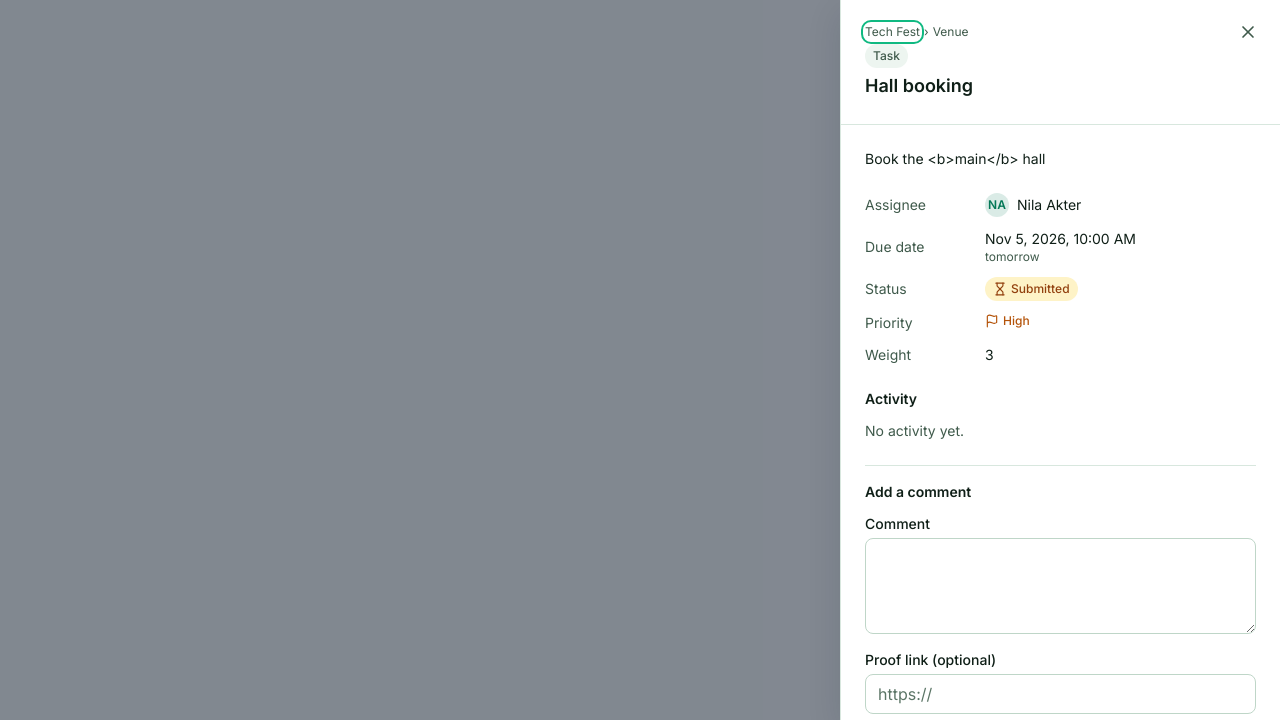
Comment composer › posts a comment, clears the box, toasts and refreshes
Step 1. Type "Booked." into the text box labelled "Comment" → (1060, 586), box [865,538,1256,634]
(page scrolled)
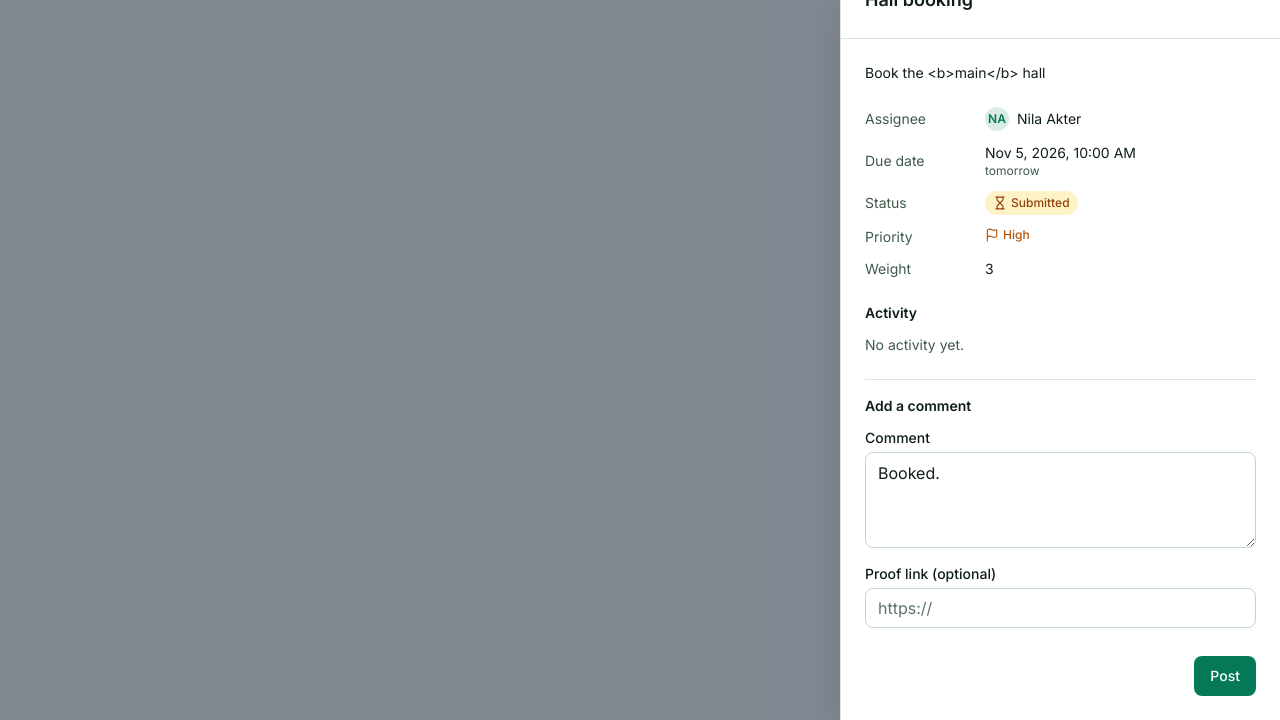
Step 2. Click the button "Post" → (1225, 676), box [1194,656,1256,696]
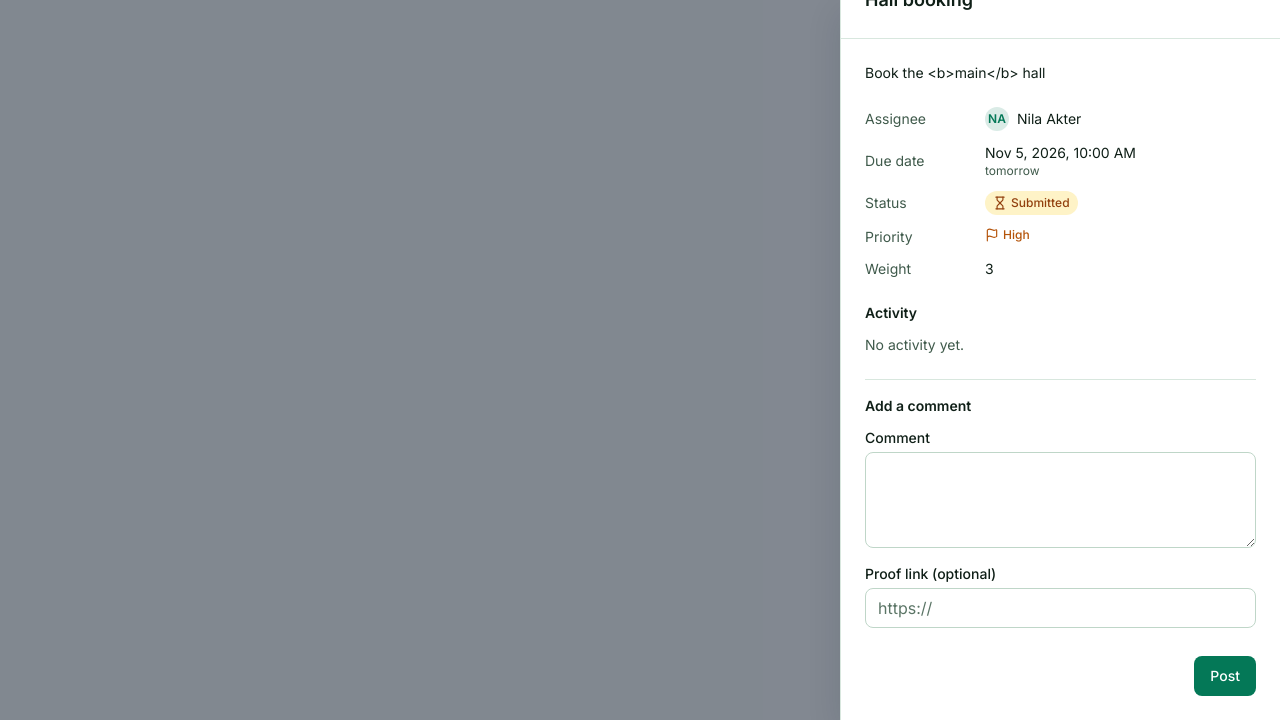
Now the text box labelled "Comment" is empty, box [865,452,1256,548]
